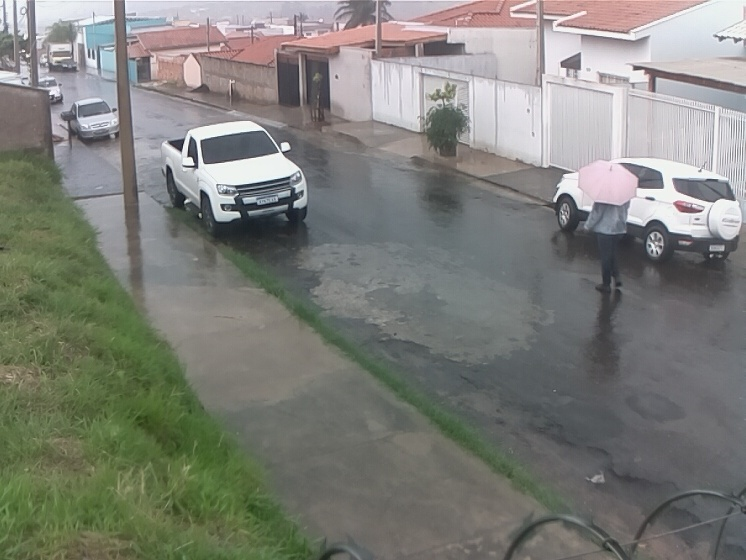person: (584, 201, 630, 297)
